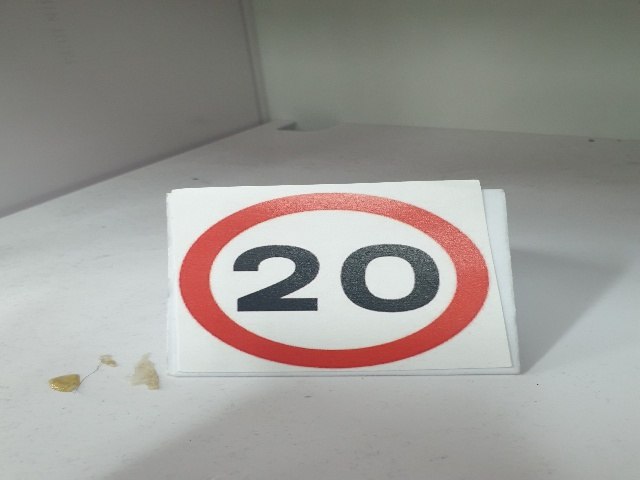Limit 20: (182, 192, 488, 370)
